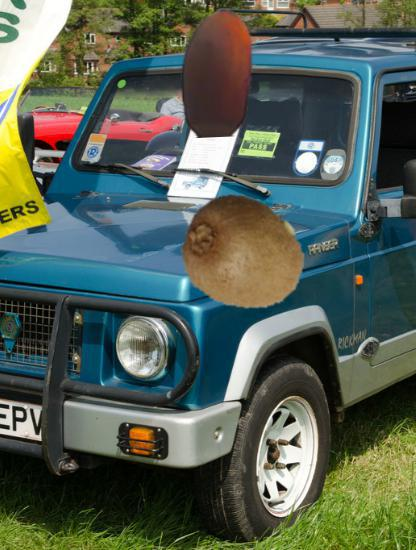Hazelnut: (153, 6, 285, 138)
Kiwi: (179, 191, 307, 319)
